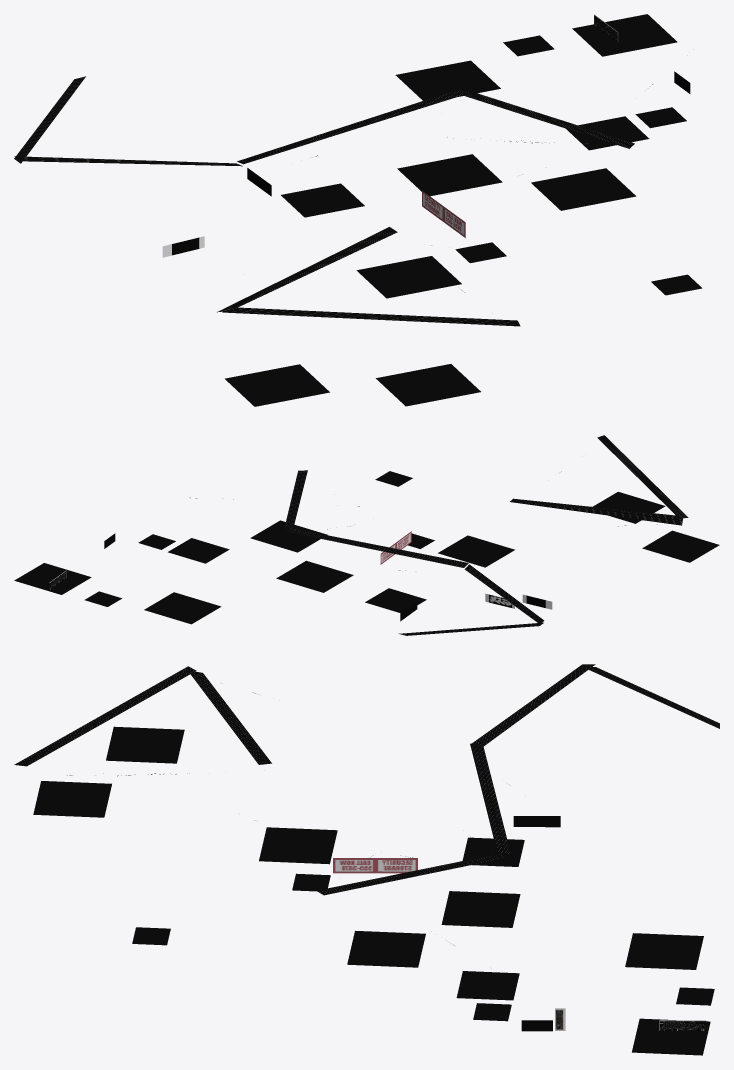
Rendered from snpedteew8_las04.obj.
The picture shows the model from 3 angles, top to bottom: view 1: azimuth 30°, elevation 25°; view 2: azimuth 150°, elevation 25°; view 3: azimuth 270°, elevation 25°; orthographic projection. The views are drawn at different scales.
Visible parts, largest first — view 1: snpedteew8_las04; view 2: snpedteew8_las04; view 3: snpedteew8_las04.
Boxes of the visible parts, bbox=[...] form: snpedteew8_las04: bbox=[14, 14, 702, 406]; snpedteew8_las04: bbox=[14, 435, 719, 635]; snpedteew8_las04: bbox=[14, 664, 719, 1055].
Size of the model in its own units: 115 by 12.24 by 104.
